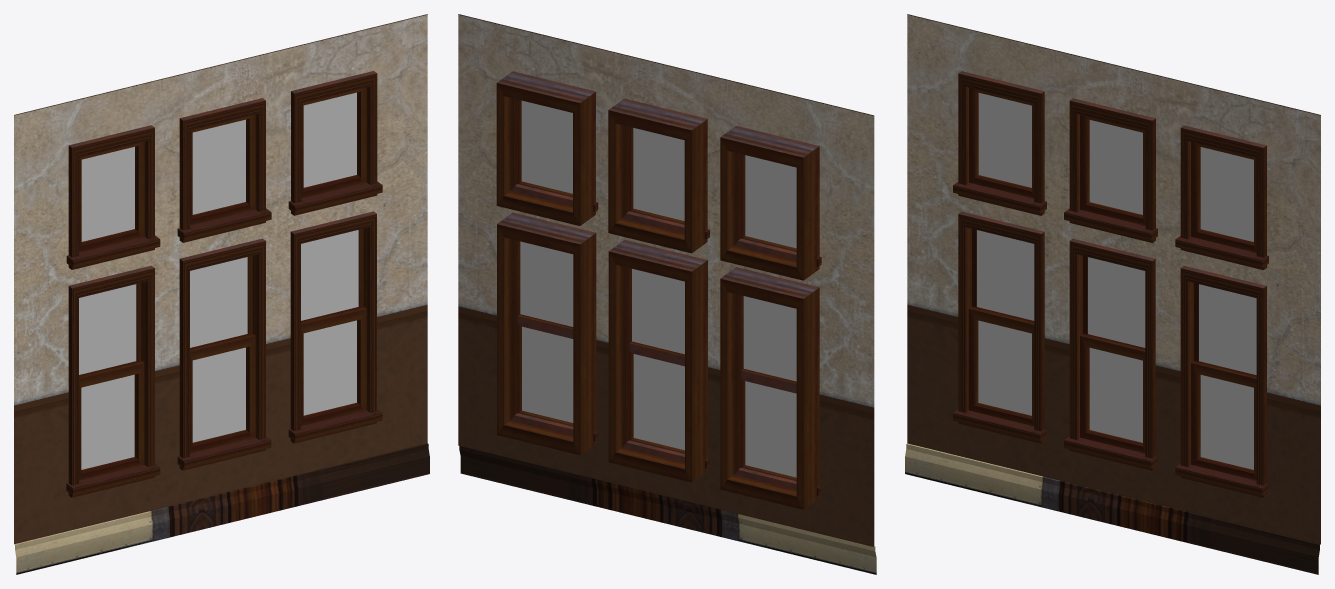
File: KitchenWindows.fbx
3 views of the same model, side by side, from view 1: azimuth 30°, elevation 25°; view 2: azimuth 150°, elevation 25°; view 3: azimuth 330°, elevation 25° (orthographic).
Parts seen in each view (by area): view 1: Wall_SmoothWindowNarrow.002; view 2: Wall_SmoothWindowNarrow.002; view 3: Wall_SmoothWindowNarrow.002.
Part boxes in pixels (box(x1,y1,x2,y2)): Wall_SmoothWindowNarrow.002: box(14, 14, 429, 574); Wall_SmoothWindowNarrow.002: box(458, 14, 876, 574); Wall_SmoothWindowNarrow.002: box(905, 14, 1320, 574).
Size of the model in its own units: 351 by 371 by 32.96.
